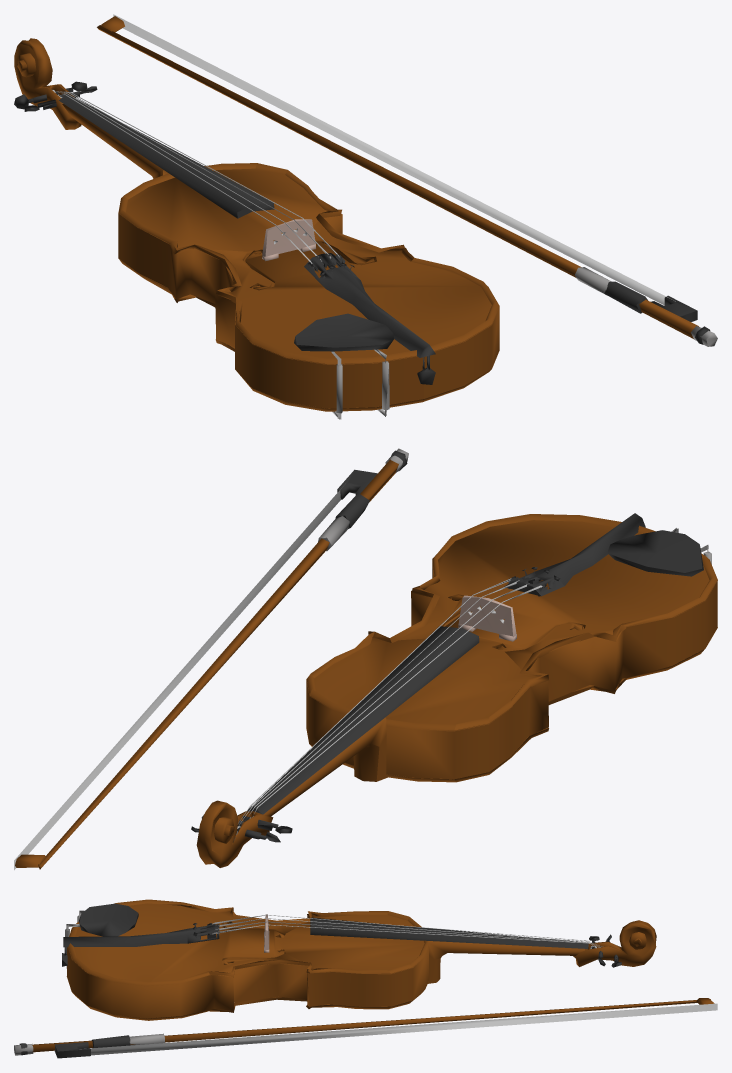
The model's file is violin.fbx.
3 views of the same model, one above another, from view 1: azimuth 30°, elevation 25°; view 2: azimuth 150°, elevation 25°; view 3: azimuth 270°, elevation 25° (orthographic). The views are drawn at different scales.
Parts seen in each view (by area): view 1: Violin, Violin.001; view 2: Violin, Violin.001; view 3: Violin, Violin.001.
Part boxes in pixels (x1,y1,x2,y2): Violin: (14,38,499,419); Violin.001: (97,14,717,346); Violin: (191,513,717,867); Violin.001: (14,448,408,870); Violin: (62,899,656,1020); Violin.001: (14,998,717,1058).
Bounding box in the file's own units: 3904 × 858 × 8421.
